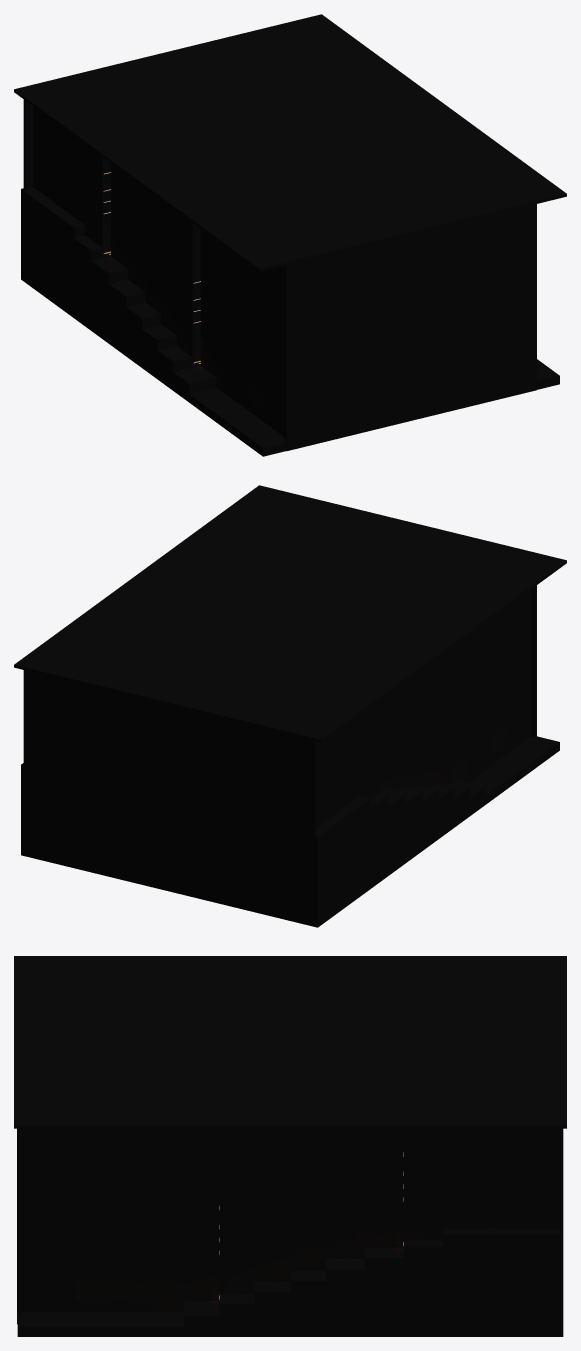
The model's file is hall1.glb.
3 renders of one model, top to bottom at view 1: azimuth 30°, elevation 25°; view 2: azimuth 150°, elevation 25°; view 3: azimuth 270°, elevation 25°, orthographic. The views are drawn at different scales.
Visible parts, largest first — view 1: bake_room, bake_walls, bake_floor; view 2: bake_room, bake_floor, bake_walls; view 3: bake_room, bake_walls, bake_floor.
Boxes of the visible parts, x1=… form: bake_room: x1=14, y1=14, x2=566, y2=451; bake_walls: x1=33, y1=106, x2=284, y2=436; bake_floor: x1=21, y1=187, x2=559, y2=456; bake_room: x1=14, y1=485, x2=566, y2=922; bake_floor: x1=21, y1=736, x2=559, y2=927; bake_walls: x1=316, y1=589, x2=531, y2=826; bake_room: x1=14, y1=956, x2=566, y2=1324; bake_walls: x1=21, y1=1128, x2=559, y2=1312; bake_floor: x1=17, y1=1228, x2=563, y2=1336.
Bounding box in the file's own units: 11.3 × 6.68 × 15.6.
11 materials, 3 textured.
